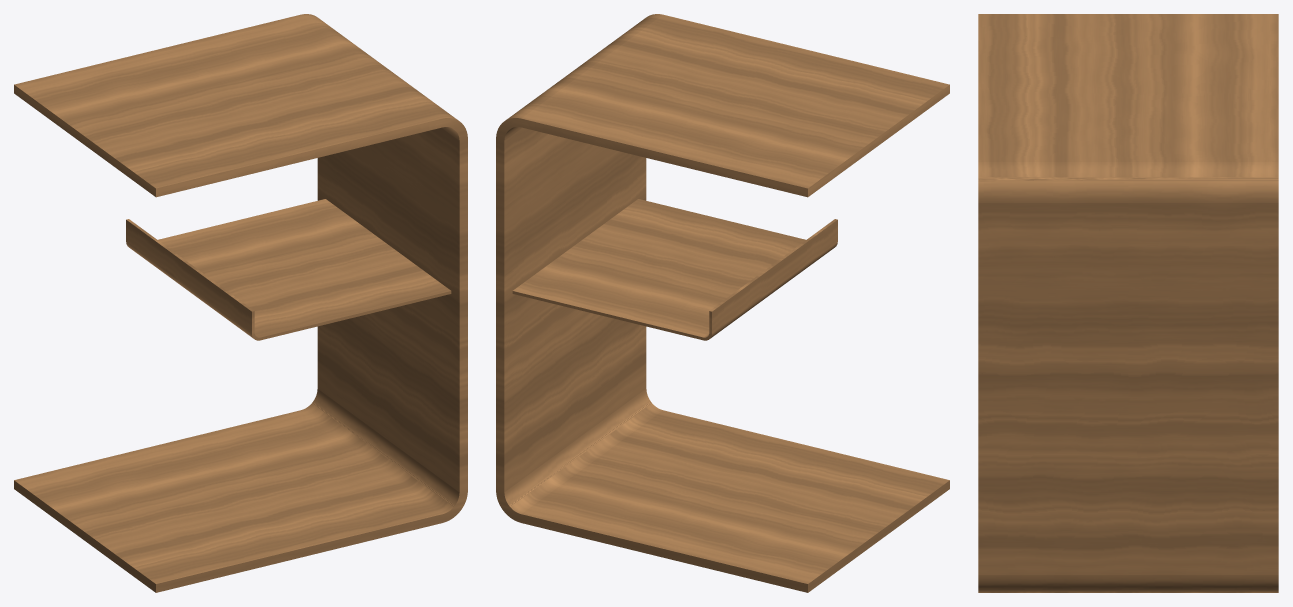
The model's file is mesa_lateral_c.glb.
3 views of the same model, side by side, from view 1: azimuth 30°, elevation 25°; view 2: azimuth 150°, elevation 25°; view 3: azimuth 270°, elevation 25° (orthographic). The views are drawn at different scales.
Visible parts, largest first — view 1: mesa_lateral_c_0, mesa_lateral_c_1; view 2: mesa_lateral_c_0, mesa_lateral_c_1; view 3: mesa_lateral_c_0.
Part boxes in pixels (left/top/right/bottom): mesa_lateral_c_0: left=14, top=14, right=467, bottom=592; mesa_lateral_c_1: left=126, top=199, right=451, bottom=340; mesa_lateral_c_0: left=496, top=14, right=949, bottom=592; mesa_lateral_c_1: left=512, top=199, right=837, bottom=340; mesa_lateral_c_0: left=978, top=14, right=1278, bottom=592.
Size of the model in its own units: 0.444 by 0.55 by 0.35.
Materials: 1 (1 with a texture image).
